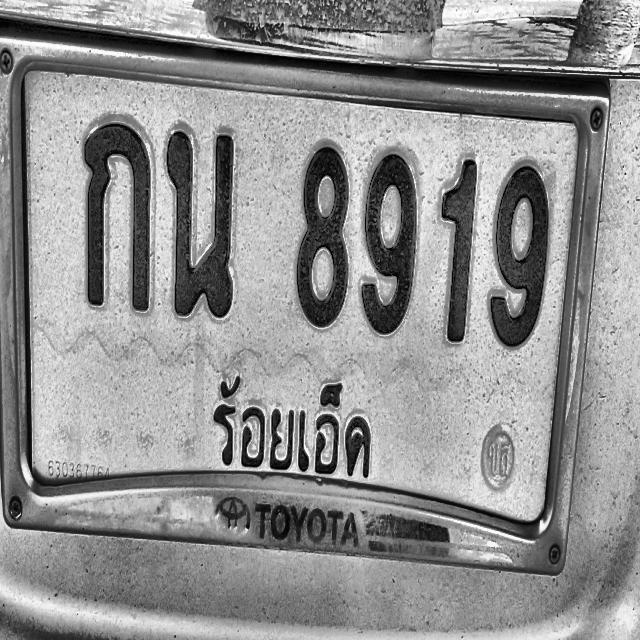license-plate: (6, 31, 614, 586)
